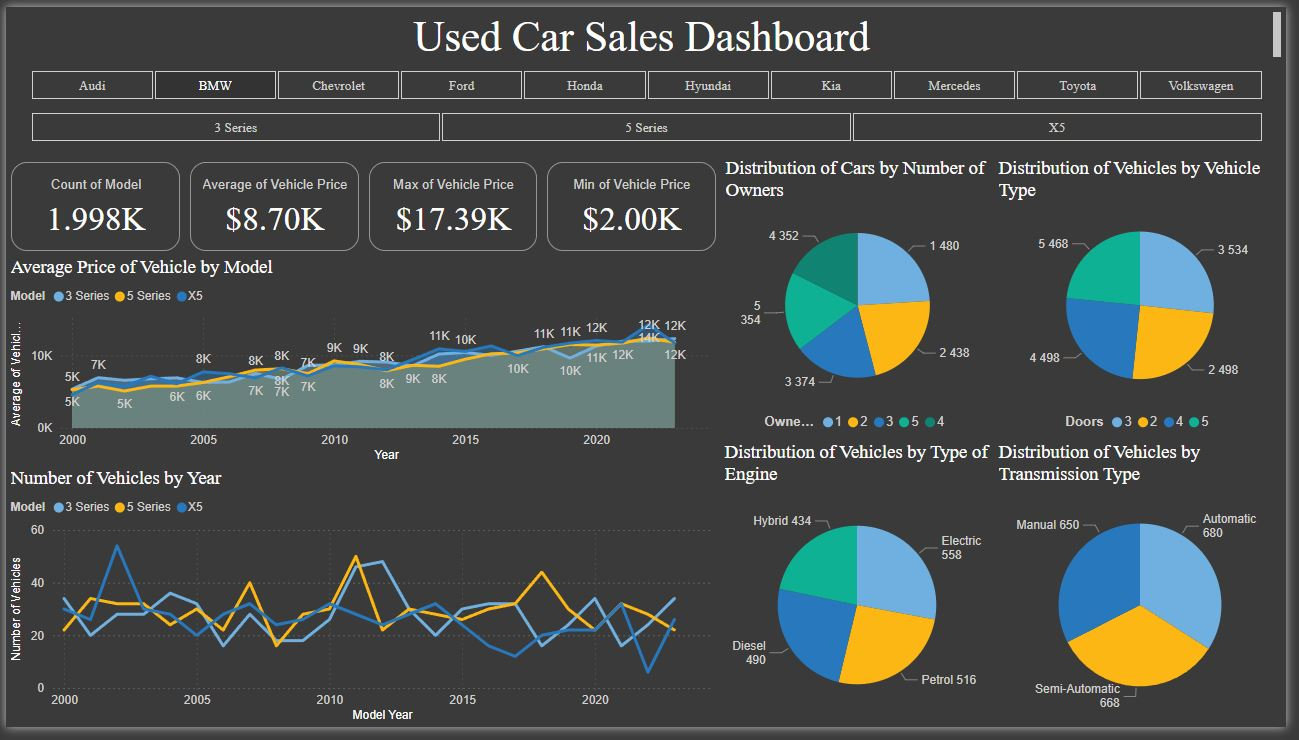

Layout of this report page (visuals, bound fields, positions):
{"tool":"powerbi","page":{"name":"Page 1","canvas":[1280,720],"ordinal":0},"visuals":[{"type":"slicer","fields":{"Values":["car_sales car_price_dataset.Brand"]},"box":[0,57.4,1280,41.8],"z":0},{"type":"textbox","box":[0,0,1280,57.4],"z":1000},{"type":"slicer","fields":{"Values":["car_sales car_price_dataset.Model"]},"box":[0,99.2,1280,41.8],"z":2000},{"type":"pieChart","title":"Distribution of Vehicles by Transmission Type","fields":{"Y":["CountNonNull(Car Sales Data.Price)"],"Category":["Car Sales Data.Transmission"]},"box":[988,434,292,286],"z":3000},{"type":"pieChart","title":"Distribution of Vehicles by Type of Engine","fields":{"Category":["Car Sales Data.Fuel_Type"],"Y":["CountNonNull(Car Sales Data.Price)"]},"box":[714,434,274,286],"z":4000},{"type":"lineChart","title":"Number of Vehicles by Year","fields":{"Category":["Car Sales Data.Year"],"Y":["CountNonNull(Car Sales Data.Model)"],"Series":["Car Sales Data.Model"]},"box":[0,460,714,260],"z":5000},{"type":"cardVisual","fields":{"Data":["CountNonNull(Car Sales Data.Model)"]},"box":[0,150,178.8,99],"z":6000,"group":"g1"},{"type":"pieChart","title":"Distribution of Cars by Number of Owners","fields":{"Y":["CountNonNull(Car Sales Data.Price)"],"Category":["Car Sales Data.Owner_Count"]},"box":[715,150,273,284],"z":6000},{"type":"group","id":"g1","title":"Group 1","box":[0,150,715,99],"z":7000},{"type":"areaChart","title":"Average Price of Vehicle by Model","fields":{"Category":["Car Sales Data.Year"],"Y":["Avg(Car Sales Data.Vehicle Price)"],"Series":["Car Sales Data.Model"]},"box":[0,249,714,211],"z":8000},{"type":"cardVisual","fields":{"Data":["Avg(Car Sales Data.Price)"]},"box":[178.8,150,178.8,99],"z":9000,"group":"g1"},{"type":"pieChart","title":"Distribution of Vehicles by Vehicle Type","fields":{"Y":["CountNonNull(Car Sales Data.Vehicle Price)"],"Category":["Car Sales Data.Doors"]},"box":[988,150,292,284],"z":9000},{"type":"cardVisual","fields":{"Data":["Min(Car Sales Data.Price)"]},"box":[536.2,150,178.8,99],"z":10000,"group":"g1"},{"type":"cardVisual","fields":{"Data":["Max(Car Sales Data.Price)"]},"box":[357.5,150,178.8,99],"z":11000,"group":"g1"}]}

Visuals, with their boxes in screenshot pixels (x1, y1, x2, y2), scaled from the page's 1280x720 canvas onto the 1299x740 screenshot:
slicer - car_sales car_price_dataset.Brand: [left=0, top=59, right=1298, bottom=102]
textbox: [left=0, top=0, right=1298, bottom=59]
slicer - car_sales car_price_dataset.Model: [left=0, top=102, right=1298, bottom=145]
"Distribution of Vehicles by Transmission Type" pieChart: [left=1003, top=446, right=1298, bottom=739]
"Distribution of Vehicles by Type of Engine" pieChart: [left=725, top=446, right=1003, bottom=739]
"Number of Vehicles by Year" lineChart: [left=0, top=473, right=725, bottom=739]
cardVisual - CountNonNull(Car Sales Data.Model): [left=0, top=154, right=181, bottom=256]
"Distribution of Cars by Number of Owners" pieChart: [left=726, top=154, right=1003, bottom=446]
"Group 1" group: [left=0, top=154, right=726, bottom=256]
"Average Price of Vehicle by Model" areaChart: [left=0, top=256, right=725, bottom=473]
cardVisual - Avg(Car Sales Data.Price): [left=181, top=154, right=363, bottom=256]
"Distribution of Vehicles by Vehicle Type" pieChart: [left=1003, top=154, right=1298, bottom=446]
cardVisual - Min(Car Sales Data.Price): [left=544, top=154, right=726, bottom=256]
cardVisual - Max(Car Sales Data.Price): [left=363, top=154, right=544, bottom=256]
